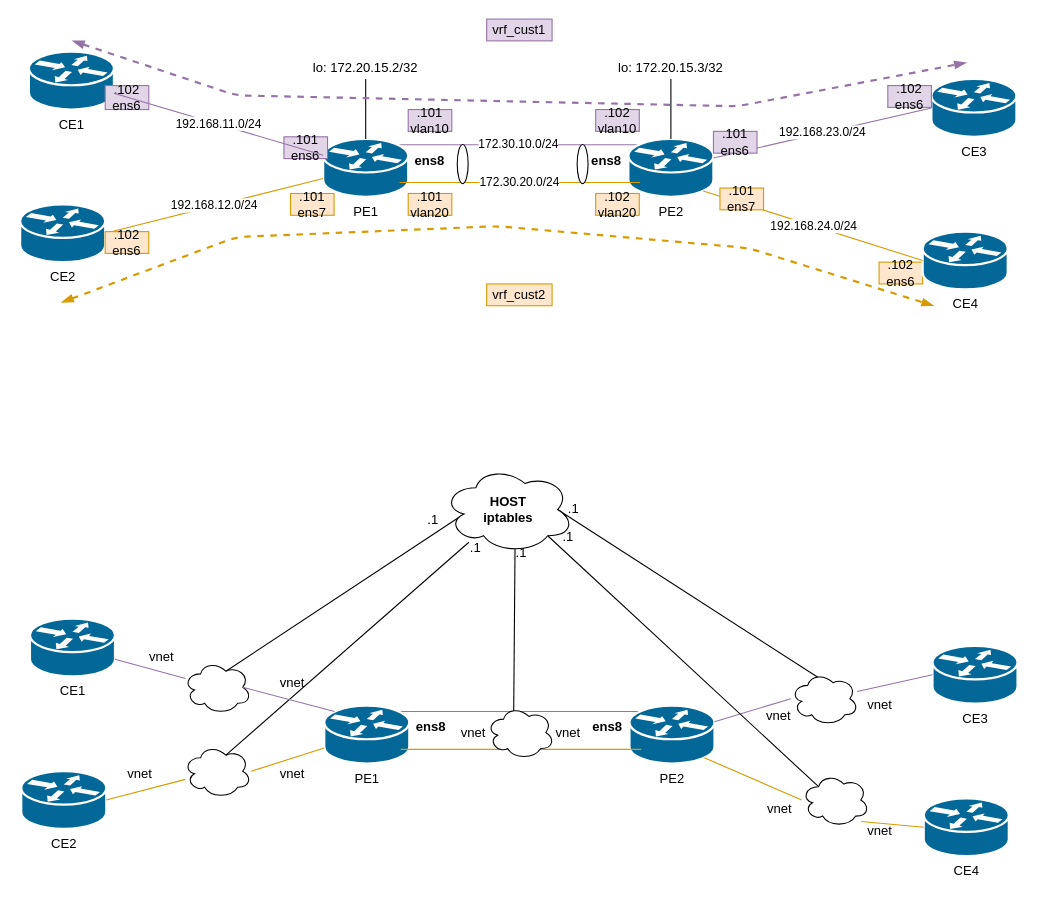
This 1037x898 diagram has some shape labels left out. Each missing label, with the centre of its shape:
virbr10: point 835,799
virbr11: point 520,732
virbr12: point 217,686
virbr8: point 217,770
virbr9: point 824,698
